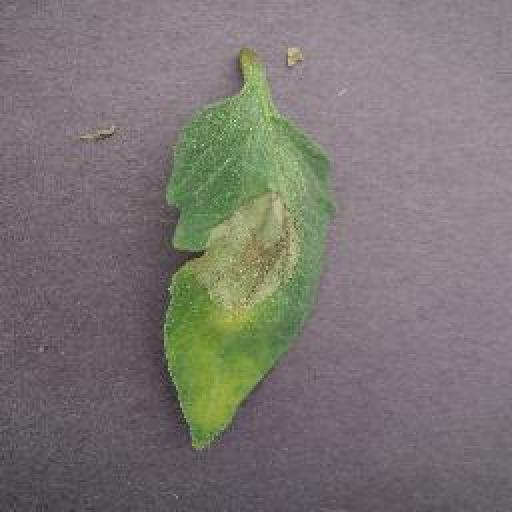disease_tomato: (162, 89, 342, 459)
